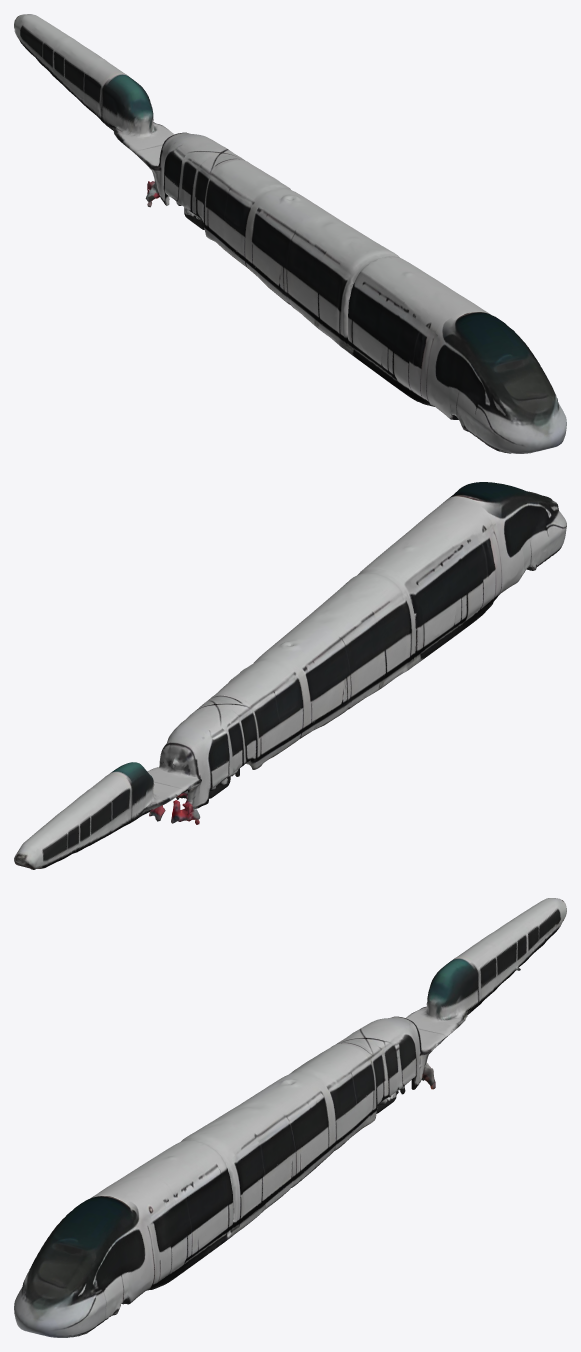
Rendered from Futuristic_urban_hub_with_transparent_high-speed_rail_and_green_plaza.glb.
The picture shows the model from 3 angles, top to bottom: view 1: azimuth 30°, elevation 25°; view 2: azimuth 150°, elevation 25°; view 3: azimuth 330°, elevation 25°; orthographic projection.
Visible parts, largest first — view 1: tripo_node_2967c89a-b7ff-4e2f-b49e-689ed72d0ce1; view 2: tripo_node_2967c89a-b7ff-4e2f-b49e-689ed72d0ce1; view 3: tripo_node_2967c89a-b7ff-4e2f-b49e-689ed72d0ce1.
Part boxes in pixels (left/top/right/bottom): tripo_node_2967c89a-b7ff-4e2f-b49e-689ed72d0ce1: left=14, top=14, right=566, bottom=453; tripo_node_2967c89a-b7ff-4e2f-b49e-689ed72d0ce1: left=14, top=482, right=566, bottom=869; tripo_node_2967c89a-b7ff-4e2f-b49e-689ed72d0ce1: left=14, top=898, right=566, bottom=1337.
Bounding box in the file's own units: 0.0832 × 0.1113 × 1.
1 material, 1 textured.
